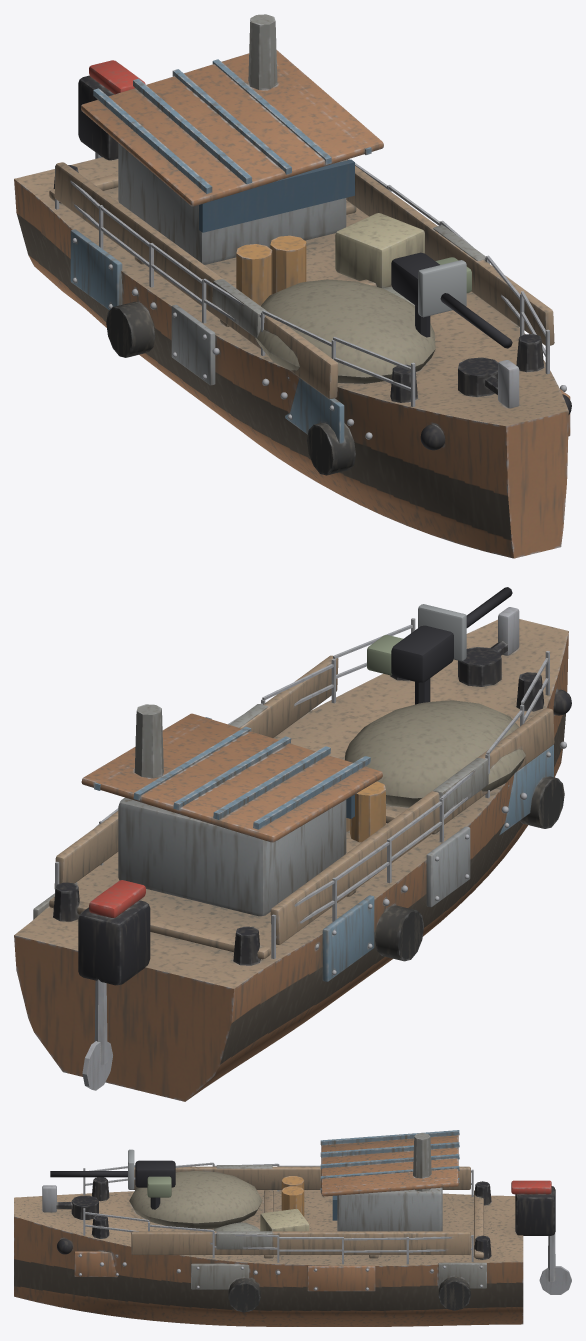
File: skiff.glb
3 renders of one model, top to bottom at view 1: azimuth 30°, elevation 25°; view 2: azimuth 150°, elevation 25°; view 3: azimuth 270°, elevation 25°, orthographic. The views are drawn at different scales.
Visible parts, largest first — view 1: Hull, Turret, Barrel; view 2: Hull, Turret; view 3: Hull, Turret, Barrel.
Boxes of the visible parts, bbox=[...] form: Hull: bbox=[14, 14, 571, 558]; Turret: bbox=[391, 252, 471, 337]; Barrel: bbox=[440, 293, 512, 348]; Hull: bbox=[14, 607, 571, 1101]; Turret: bbox=[367, 604, 466, 704]; Hull: bbox=[14, 1130, 571, 1326]; Turret: bbox=[128, 1149, 175, 1209]; Barrel: bbox=[50, 1171, 127, 1177].
Bounding box in the file's own units: 2.55 × 2.55 × 6.9.
18 materials, 15 textured.
